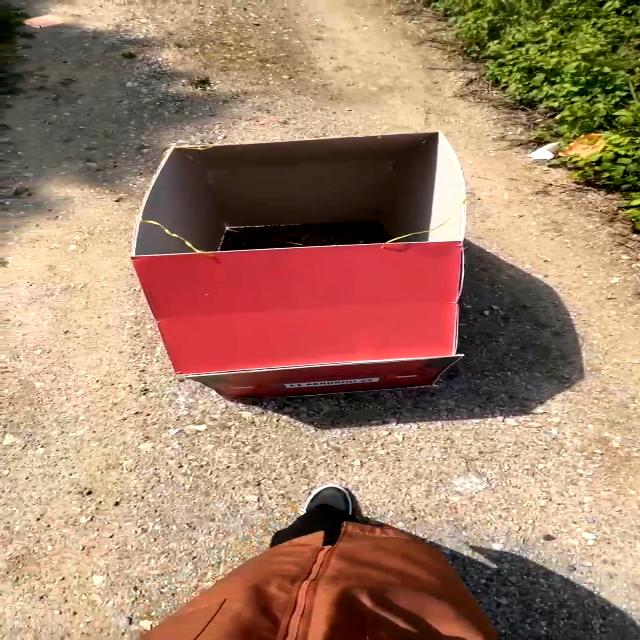red_car: (112, 127, 498, 409)
